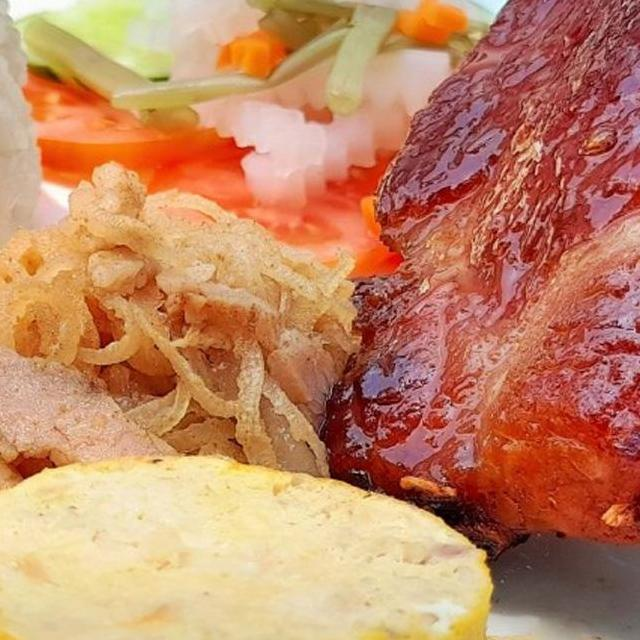bi: (0, 155, 369, 557)
cha: (0, 444, 500, 640)
com suon bi cha: (0, 0, 640, 640)
dua chua: (14, 0, 507, 205)
suon: (313, 0, 640, 573)
